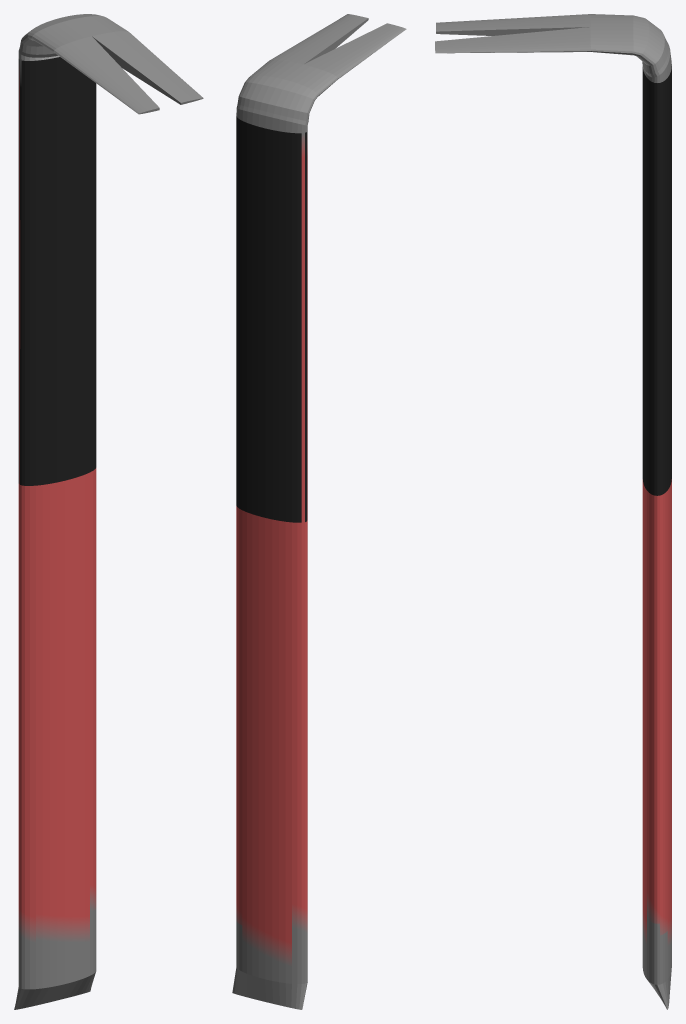
Rendered from Crowbar.fbx.
3 views of the same model, side by side, from view 1: azimuth 30°, elevation 25°; view 2: azimuth 150°, elevation 25°; view 3: azimuth 270°, elevation 25° (orthographic). The views are drawn at different scales.
Parts seen in each view (by area): view 1: Cylinder.030; view 2: Cylinder.030; view 3: Cylinder.030.
Boxes of the visible parts, x1=… form: Cylinder.030: x1=14, y1=14, x2=203, y2=1009; Cylinder.030: x1=232, y1=14, x2=406, y2=1009; Cylinder.030: x1=435, y1=14, x2=671, y2=1009.
Size of the model in its own units: 3.47 by 43.09 by 9.59.
